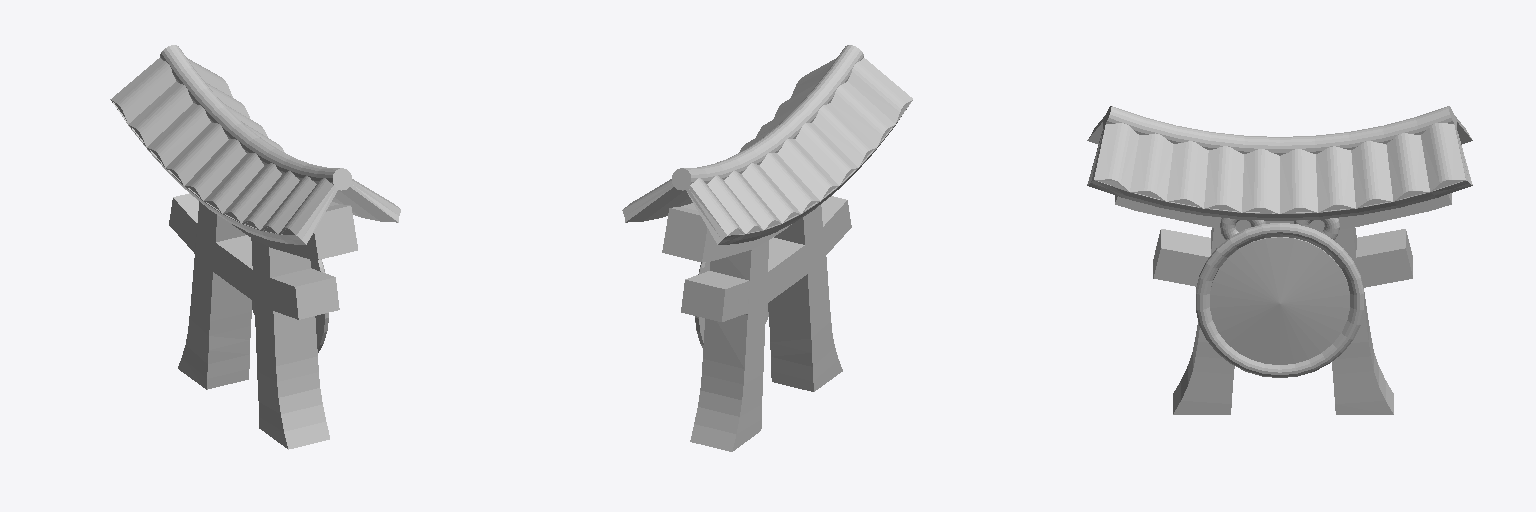
File: gong.obj
The picture shows the model from 3 angles: view 1: azimuth 30°, elevation 25°; view 2: azimuth 150°, elevation 25°; view 3: azimuth 270°, elevation 25°; orthographic projection.
Visible parts, largest first — view 1: Main_body, Roof, Gong; view 2: Main_body, Roof; view 3: Roof, Gong, Main_body, Holder.
Boxes of the visible parts, x1=… form: Main_body: x1=169, y1=193, x2=357, y2=449; Roof: x1=110, y1=45, x2=400, y2=244; Gong: x1=252, y1=259, x2=328, y2=352; Main_body: x1=662, y1=196, x2=851, y2=451; Roof: x1=622, y1=45, x2=912, y2=244; Roof: x1=1087, y1=106, x2=1472, y2=220; Gong: x1=1196, y1=223, x2=1363, y2=377; Main_body: x1=1115, y1=193, x2=1451, y2=414; Holder: x1=1220, y1=218, x2=1339, y2=239.
Bounding box in the file's own units: 2.64 × 7.15 × 8.38.